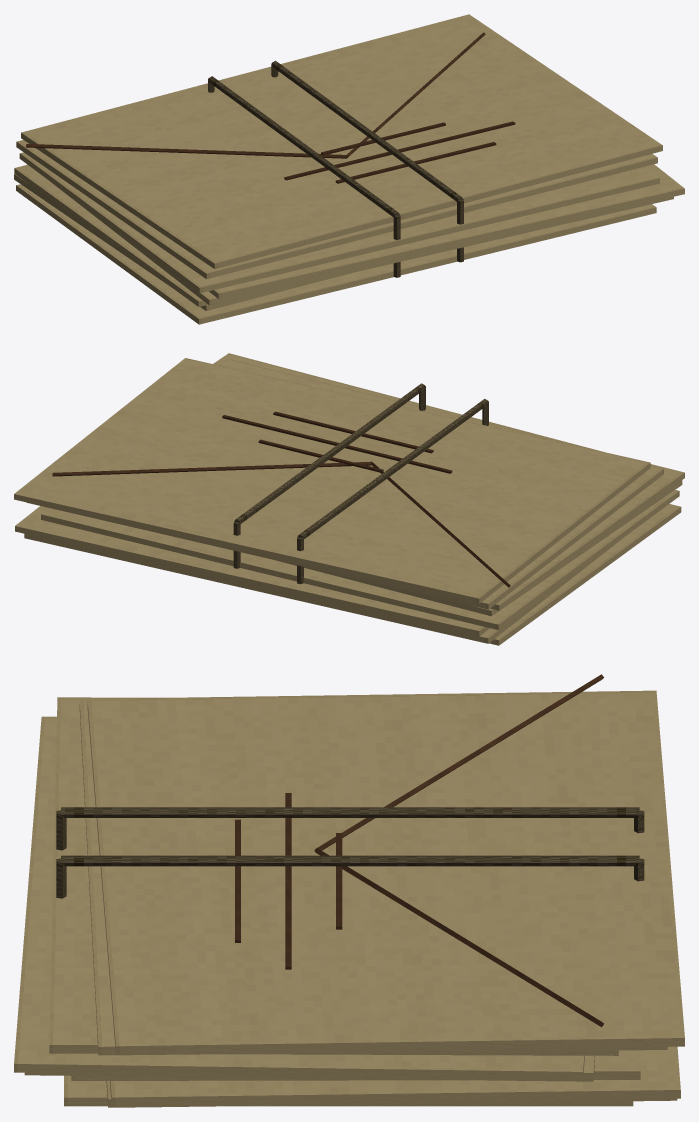
File: level_story_letters.glb
The picture shows the model from 3 angles, top to bottom: view 1: azimuth 30°, elevation 25°; view 2: azimuth 150°, elevation 25°; view 3: azimuth 270°, elevation 25°; orthographic projection. The views are drawn at different scales.
Visible parts, largest first — view 1: level_story_letters; view 2: level_story_letters; view 3: level_story_letters.
Part boxes in pixels (x1,y1,x2,y2): level_story_letters: [14, 14, 684, 324]; level_story_letters: [14, 353, 684, 645]; level_story_letters: [14, 674, 684, 1107].
Size of the model in its own units: 0.2739 by 0.0352 by 0.2121.
Materials: 3 (3 with a texture image).
